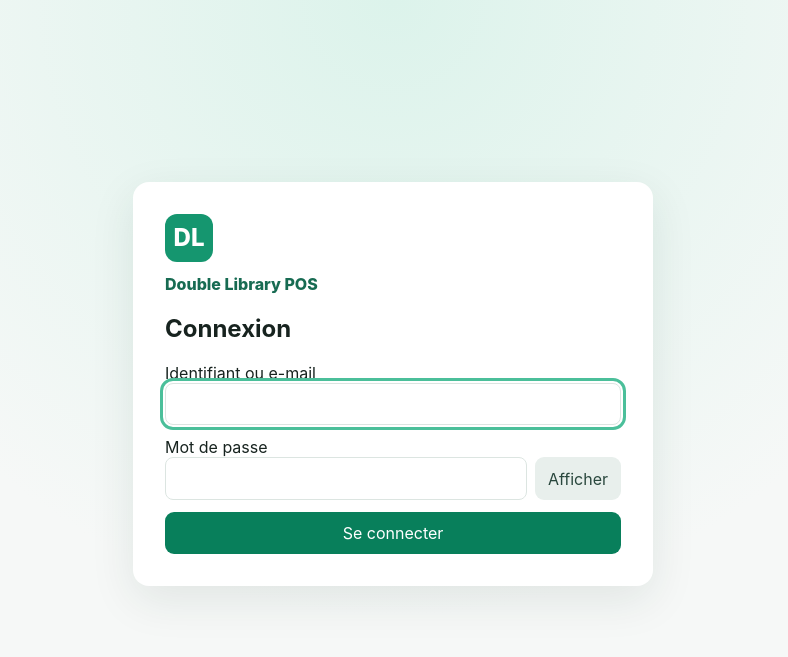
Test: authentification navigateur › préserve l’identifiant, efface le mot de passe et signale l’échec de confirmation
The image size is (788, 657).
In the field labelled "Identifiant ou e-mail": (393, 404) [165,383,621,425], type "responsable"
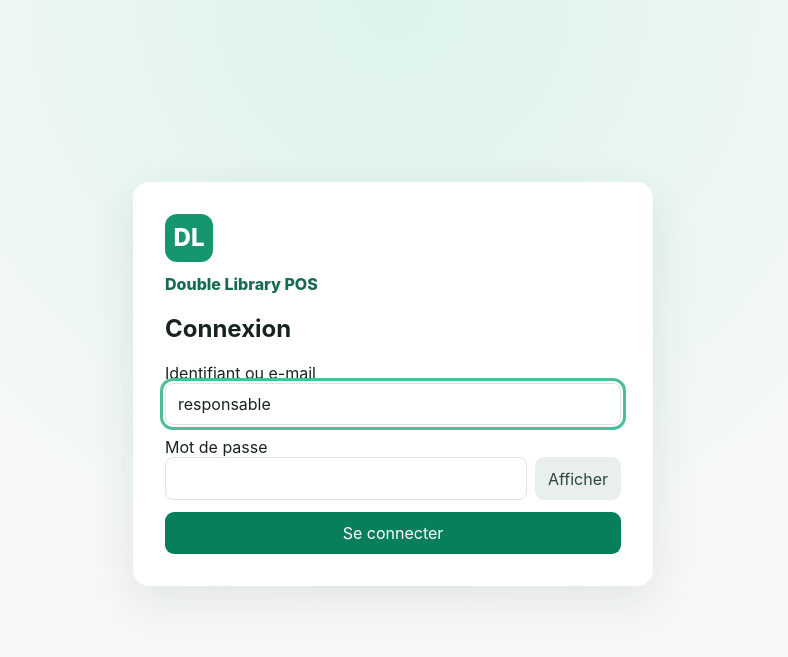
In the password field labelled "Mot de passe": (346, 479) [165,457,527,500], type "secret"
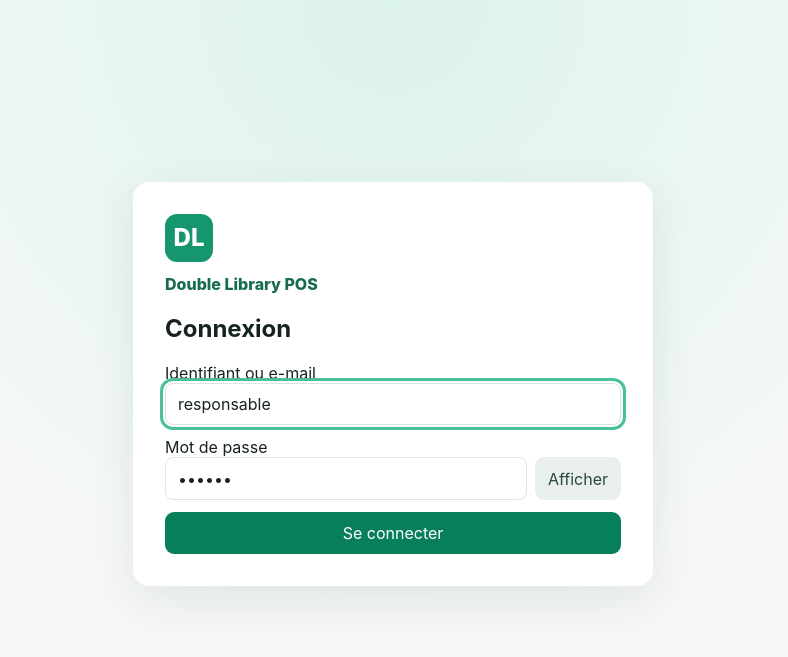
Submit the form "Se connecter", box [165,363,621,554]
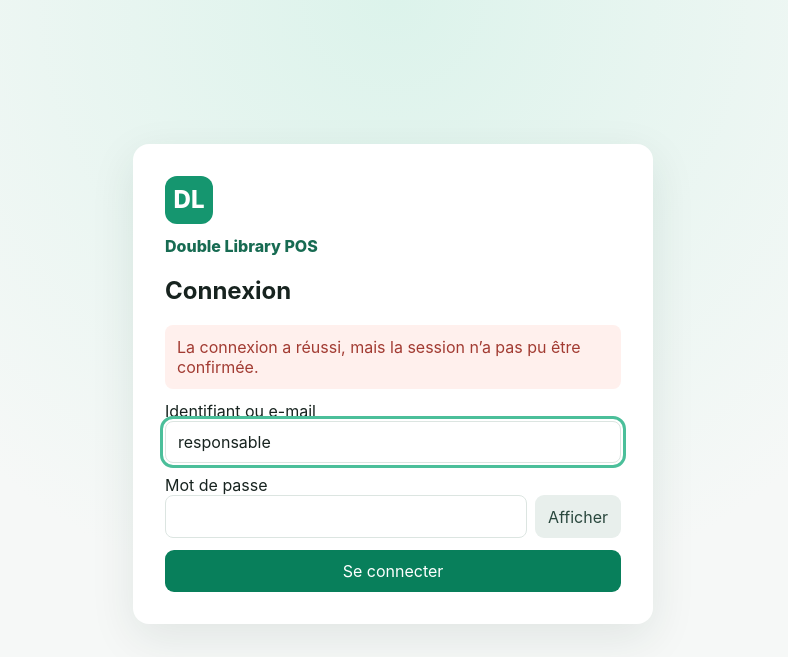
Expected: the text "La connexion a réussi, mais la session n’a pas pu être confirmée." is shown, [165,325,621,389]
Expected: the password field labelled "Mot de passe" is empty, [165,495,527,538]
